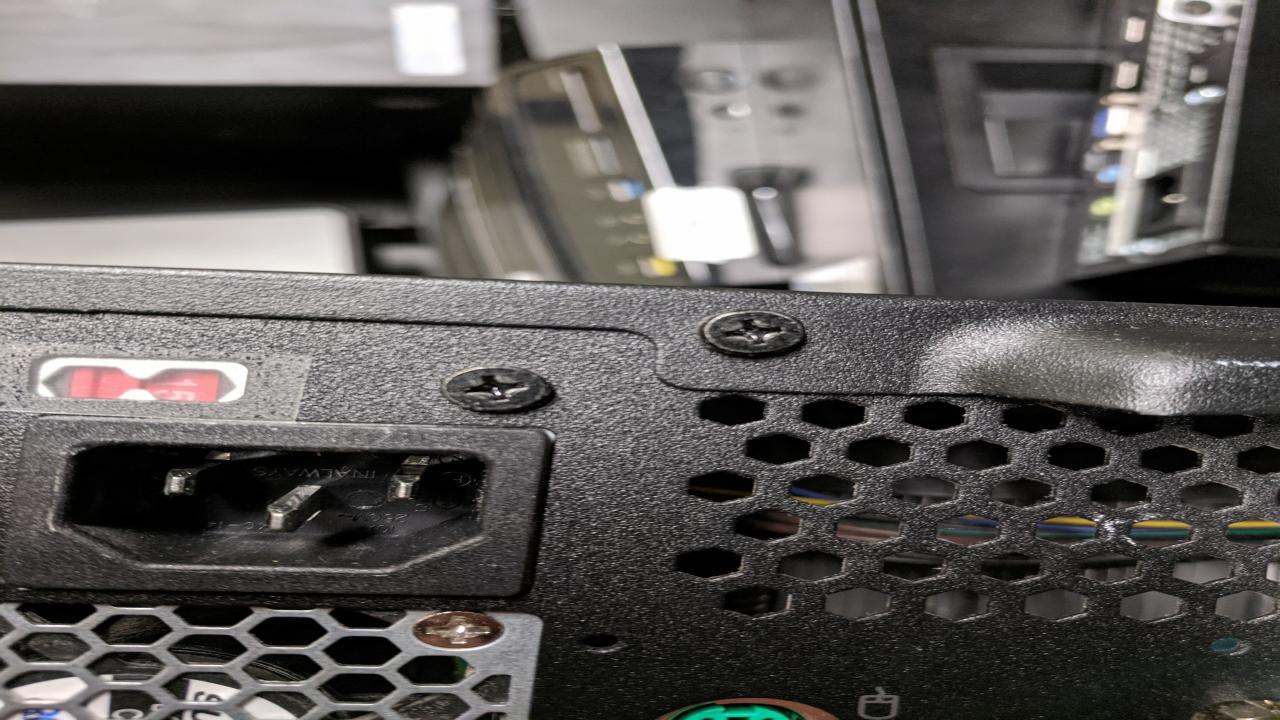CRS: (437, 368, 557, 414), (703, 310, 810, 360), (418, 611, 509, 650)
